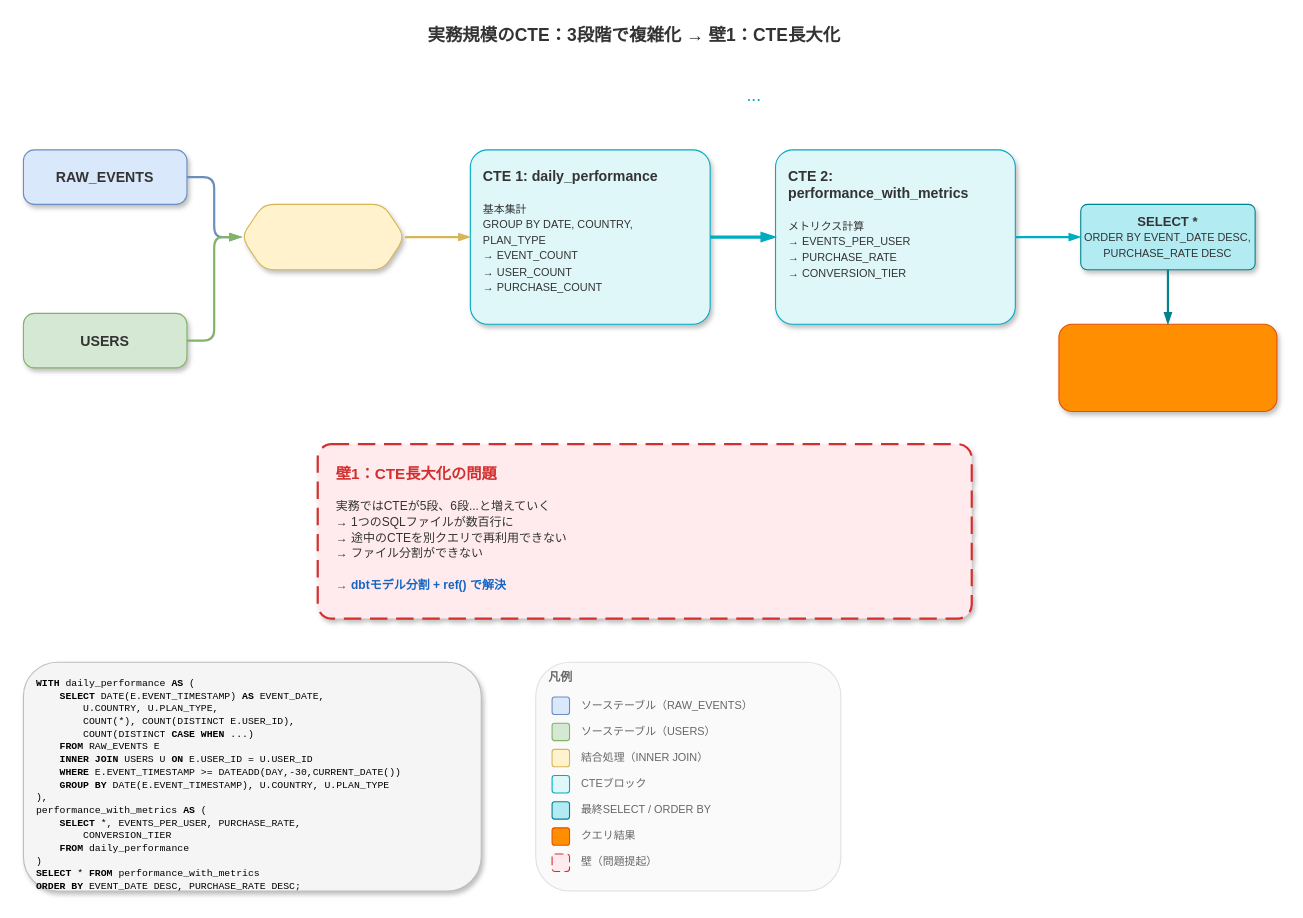
This 1303x918 diagram has some shape labels left out. Here are the shapes that lost their labels. From the top down, the centre of each, then its label:
the point at 323,238: INNER JOIN ON E.USER_ID = U.USER_ID
the point at 1168,369: 最終結果
